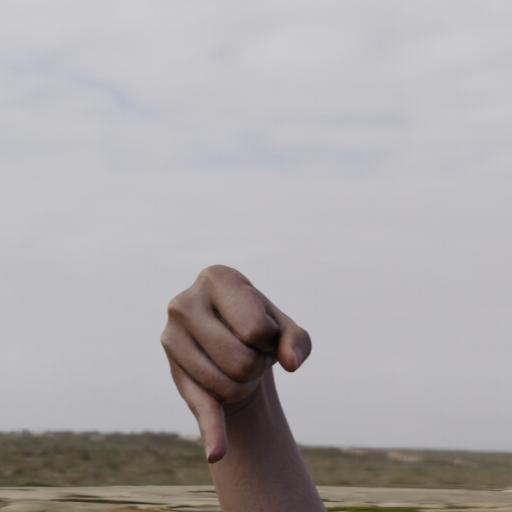J: (142, 246, 333, 512)
